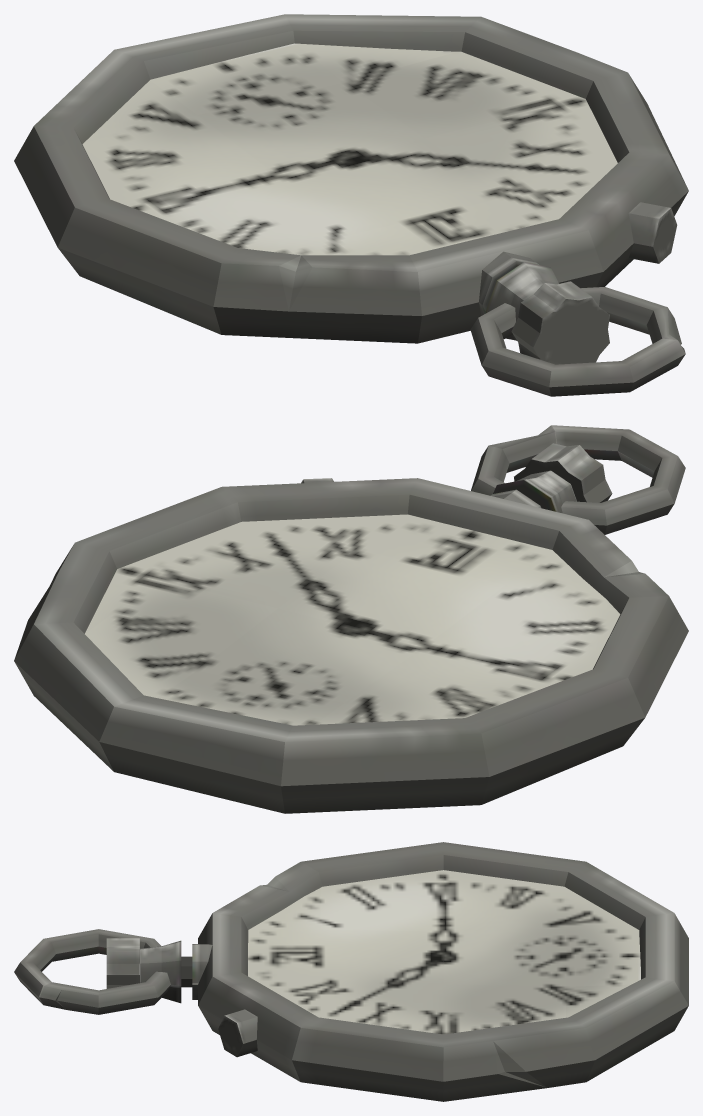
File: pocketwatch_object.fbx
The picture shows the model from 3 angles, top to bottom: view 1: azimuth 30°, elevation 25°; view 2: azimuth 150°, elevation 25°; view 3: azimuth 270°, elevation 25°; orthographic projection. The views are drawn at different scales.
Visible parts, largest first — view 1: pocketwatch; view 2: pocketwatch; view 3: pocketwatch.
Boxes of the visible parts, bbox=[...] form: pocketwatch: bbox=[14, 14, 688, 396]; pocketwatch: bbox=[14, 425, 688, 813]; pocketwatch: bbox=[14, 842, 688, 1101].
Bounding box in the file's own units: 3.62 × 0.4779 × 4.72.
